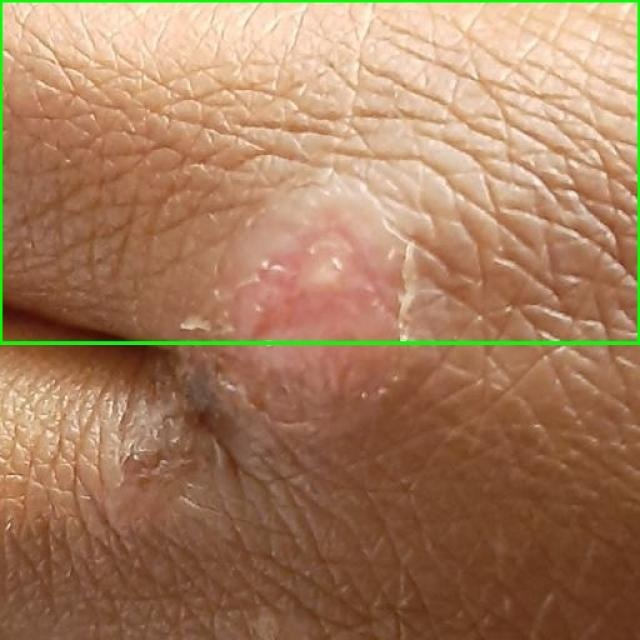Eczema: (0, 0, 639, 344)
